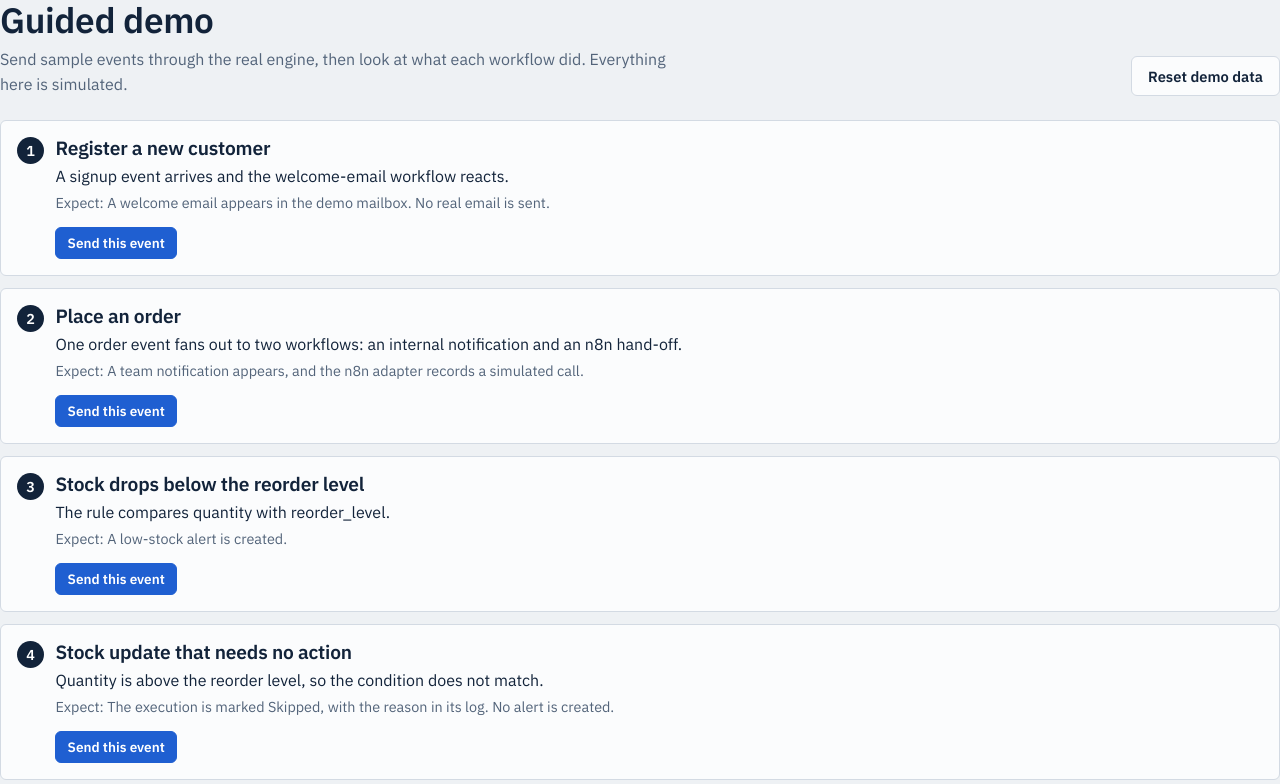
Test: guided demo keeps refreshing a Queued run until the worker finishes it (Celery mode)
Click the button "Send this event" below "Register a new customer" at (116, 243), box [55,227,177,259]
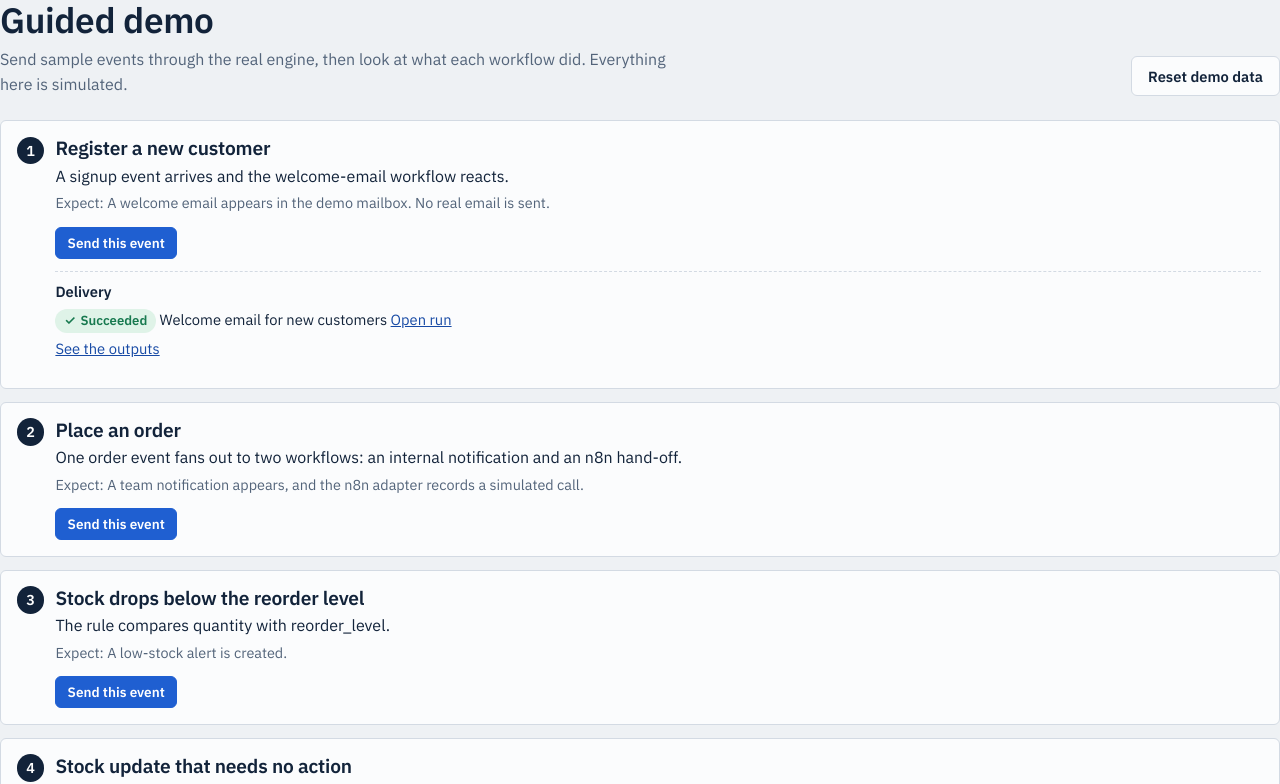
Expected: the text "✓ Succeeded" is shown, [55,309,156,333]
